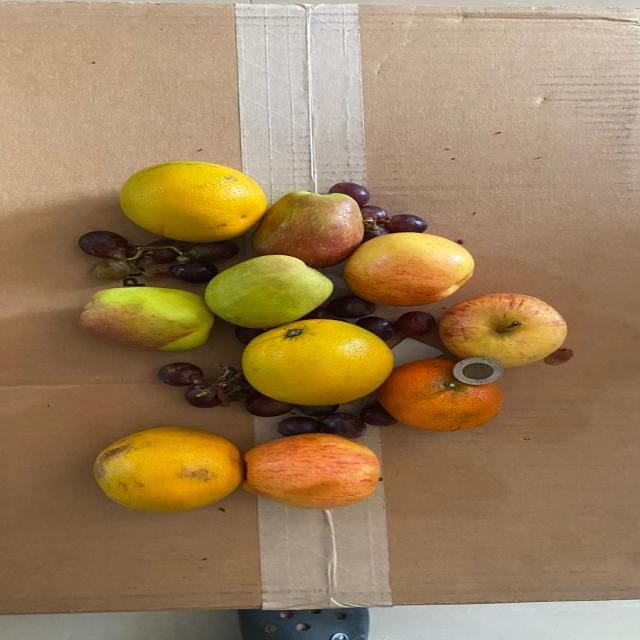moneda: (450, 356, 504, 388)
